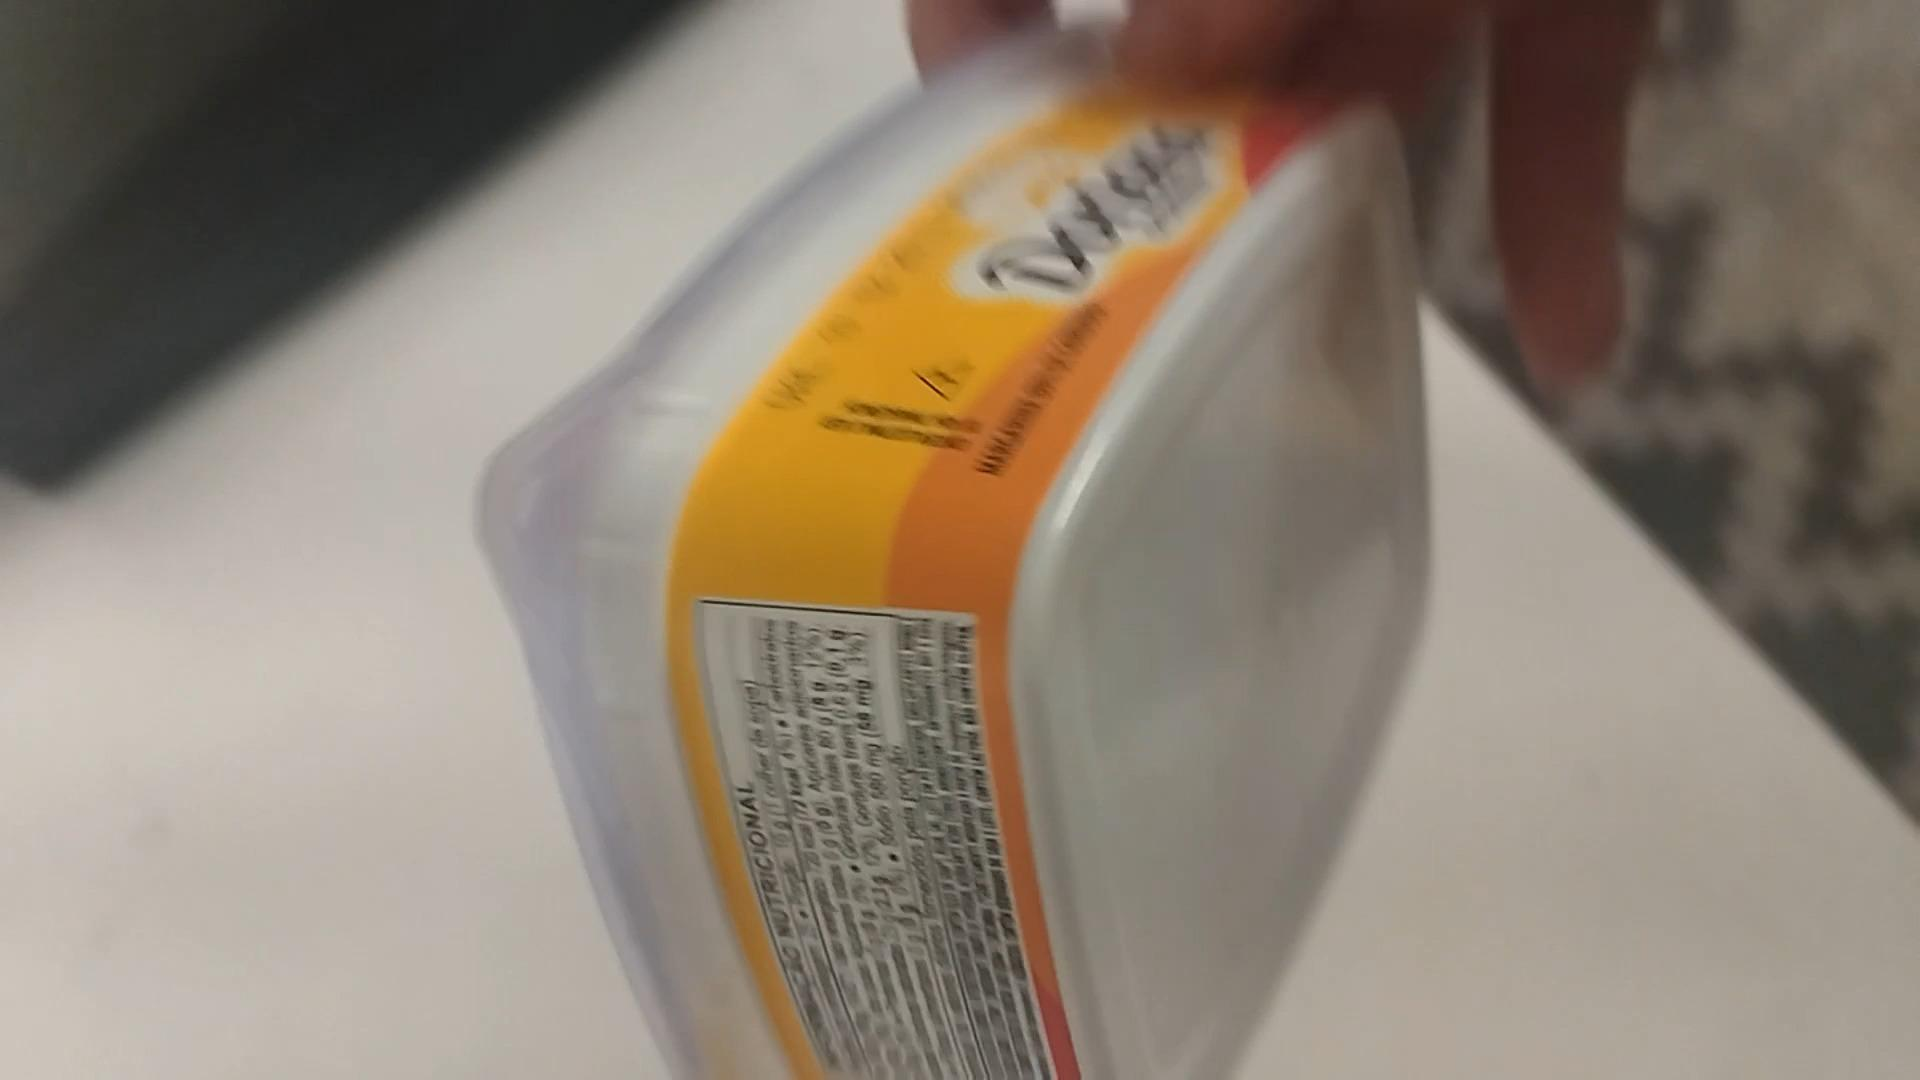butter: (477, 24, 1424, 1080)
